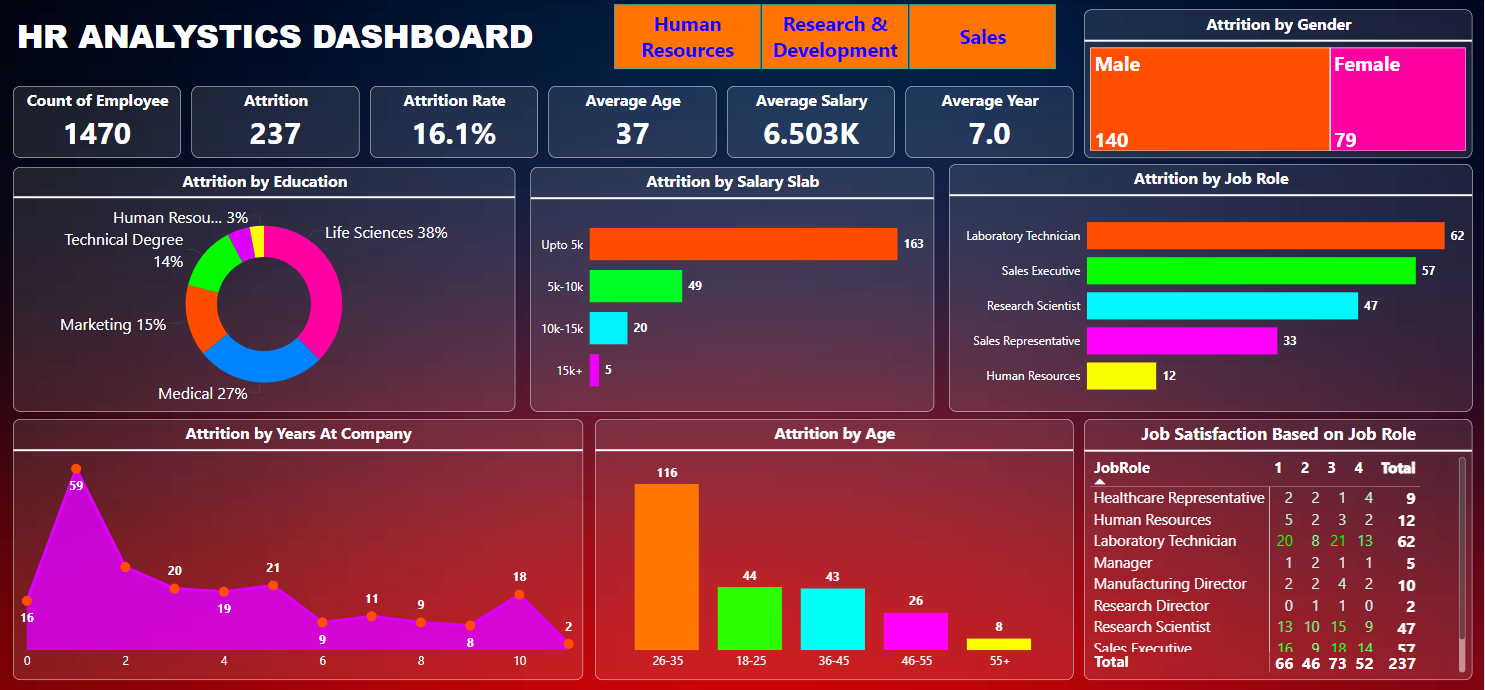

What the dashboard file says about the page in this screenshot:
{"tool":"powerbi","page":{"name":"Page 1","canvas":[2000,930],"ordinal":0},"visuals":[{"type":"card","title":"Count of Employee","fields":{"Values":["Count(HR_Analytics.EmpID)"]},"box":[20.2,117.1,226.1,96.9],"z":0},{"type":"card","title":"Attrition ","fields":{"Values":["Sum(HR_Analytics.AttritionCount)"]},"box":[260.4,117.1,226.1,96.9],"z":1000},{"type":"card","title":"Attrition Rate","fields":{"Values":["HR_Analytics.attrition_rate"]},"box":[500.7,117.1,226.1,96.9],"z":2000},{"type":"card","title":"Average Age","fields":{"Values":["Avg(HR_Analytics.Age)"]},"box":[740.9,117.1,226.1,96.9],"z":3000},{"type":"card","title":"Average Salary","fields":{"Values":["Avg(HR_Analytics.MonthlyIncome)"]},"box":[981.2,117.1,226.1,96.9],"z":4000},{"type":"card","title":"Average Year","fields":{"Values":["Avg(HR_Analytics.YearsAtCompany)"]},"box":[1221.4,117.1,226.1,96.9],"z":5000},{"type":"slicer","title":"Department","fields":{"Values":["HR_Analytics.Department"]},"box":[803.5,0,644,100.9],"z":6000},{"type":"textbox","box":[20.2,14.1,720.7,78.7],"z":7000},{"type":"treemap","title":"Attrition by Gender","fields":{"Group":["HR_Analytics.Gender"],"Values":["Sum(HR_Analytics.AttritionCount)"]},"box":[1461.7,14.1,522.9,199.9],"z":8000},{"type":"donutChart","title":"Attrition by Education","fields":{"Category":["HR_Analytics.EducationField"],"Y":["Sum(HR_Analytics.AttritionCount)"]},"box":[20.2,226.1,676.3,329.1],"z":9000},{"type":"pivotTable","title":"Job Satisfaction Based on Job Role","fields":{"Rows":["HR_Analytics.JobRole"],"Columns":["HR_Analytics.JobSatisfaction"],"Values":["Sum(HR_Analytics.AttritionCount)"]},"box":[1461.7,565.3,522.9,351.3],"z":10000},{"type":"areaChart","title":"Attrition by Years At Company","fields":{"Category":["HR_Analytics.YearsAtCompany"],"Y":["Sum(HR_Analytics.AttritionCount)"]},"box":[20.2,565.3,767.2,351.3],"z":11000},{"type":"columnChart","title":"Attrition by Age","fields":{"Category":["HR_Analytics.AgeGroup"],"Y":["Sum(HR_Analytics.AttritionCount)"]},"box":[803.5,565.3,644,351.3],"z":12000},{"type":"barChart","title":"Attrition by Salary Slab","fields":{"Category":["HR_Analytics.SalarySlab"],"Y":["Sum(HR_Analytics.AttritionCount)"]},"box":[716.7,226.1,543.1,329.1],"z":13000},{"type":"barChart","title":"Attrition by Job Role","fields":{"Y":["Sum(HR_Analytics.AttritionCount)"],"Category":["HR_Analytics.JobRole"]},"box":[1280,222.1,704.6,333.1],"z":14000}]}

Visuals, with their boxes in screenshot pixels (x1, y1, x2, y2), scaled from the page's 2000x930 canvas onto the 1485x690 screenshot:
"Count of Employee" card: [15, 87, 183, 159]
"Attrition " card: [193, 87, 361, 159]
"Attrition Rate" card: [372, 87, 540, 159]
"Average Age" card: [550, 87, 718, 159]
"Average Salary" card: [729, 87, 896, 159]
"Average Year" card: [907, 87, 1075, 159]
"Department" slicer: [597, 0, 1075, 75]
textbox: [15, 10, 550, 69]
"Attrition by Gender" treemap: [1085, 10, 1474, 159]
"Attrition by Education" donutChart: [15, 168, 517, 412]
"Job Satisfaction Based on Job Role" pivotTable: [1085, 419, 1474, 680]
"Attrition by Years At Company" areaChart: [15, 419, 585, 680]
"Attrition by Age" columnChart: [597, 419, 1075, 680]
"Attrition by Salary Slab" barChart: [532, 168, 935, 412]
"Attrition by Job Role" barChart: [950, 165, 1474, 412]
